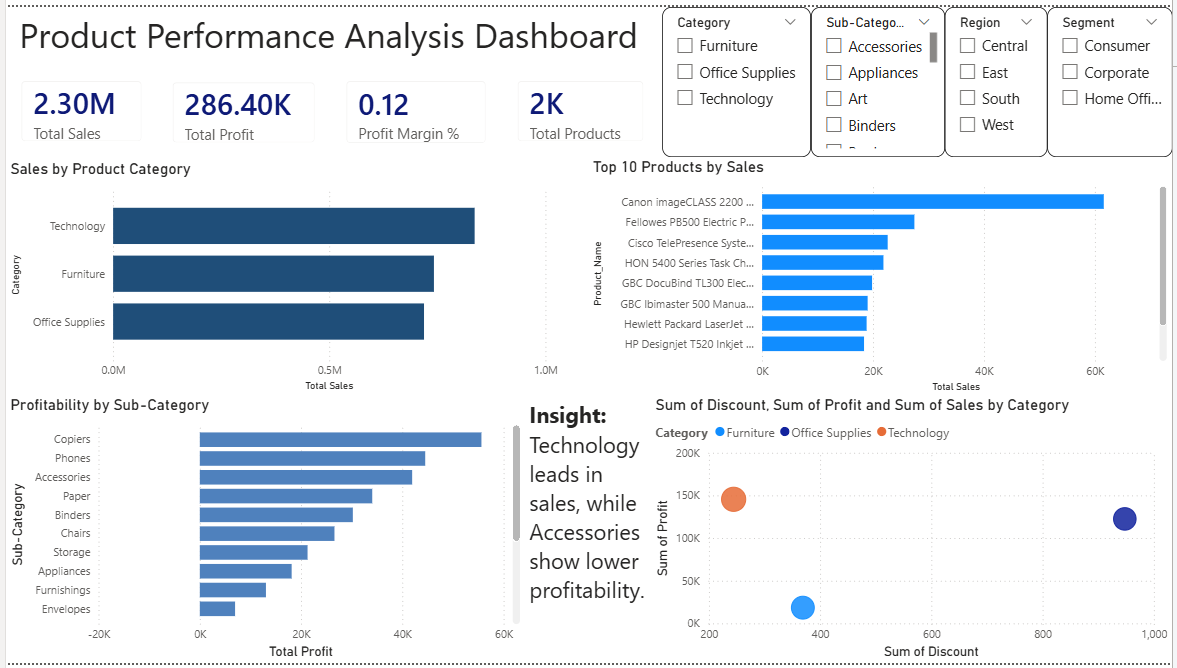

The page's visual inventory and layout, read from the dashboard file:
{"tool":"powerbi","page":{"name":"Page 2","canvas":[1280,720],"ordinal":1},"visuals":[{"type":"textbox","box":[9.6,0,710.8,64.5],"z":0},{"type":"slicer","fields":{"Values":["cleaned_superstore_data.Category"]},"box":[720.4,0,163.3,164.7],"z":1000},{"type":"slicer","fields":{"Values":["cleaned_superstore_data.Sub-Category"]},"box":[883.7,0,146.8,164.7],"z":2000},{"type":"slicer","fields":{"Values":["cleaned_superstore_data.Region"]},"box":[1030.5,0,112.5,164.7],"z":3000},{"type":"slicer","fields":{"Values":["cleaned_superstore_data.Segment"]},"box":[1143.1,0,137.2,164.7],"z":4000},{"type":"cardVisual","fields":{"Data":["cleaned_superstore_data.Total Sales"]},"box":[0,64.5,166,100.2],"z":5000},{"type":"cardVisual","fields":{"Data":["cleaned_superstore_data.Total Profit"]},"box":[166,65.9,190.7,100.2],"z":6000},{"type":"cardVisual","fields":{"Data":["cleaned_superstore_data.Profit Margin %"]},"box":[356.8,64.5,188,102.9],"z":7000},{"type":"cardVisual","fields":{"Data":["cleaned_superstore_data.Total Products"]},"box":[544.8,64.5,172.9,100.2],"z":8000},{"type":"clusteredBarChart","title":"Sales by Product Category","fields":{"Y":["cleaned_superstore_data.Total Sales"],"Category":["cleaned_superstore_data.Category"]},"box":[0,167.1,611.4,260],"z":9000},{"type":"clusteredBarChart","title":"Profitability by Sub-Category","fields":{"Category":["cleaned_superstore_data.Sub-Category"],"Y":["cleaned_superstore_data.Total Profit"]},"box":[0,426.8,569.5,293.7],"z":10000},{"type":"clusteredBarChart","title":"Top 10 Products by Sales","fields":{"Y":["cleaned_superstore_data.Total Sales"],"Category":["cleaned_superstore_data.Product_Name"]},"box":[640,164.3,640,262.9],"z":11000},{"type":"scatterChart","fields":{"X":["Sum(cleaned_superstore_data.Discount)"],"Y":["Sum(cleaned_superstore_data.Profit)"],"Size":["Sum(cleaned_superstore_data.Sales)"],"Series":["cleaned_superstore_data.Category"]},"box":[708.1,426.8,572.2,293.7],"z":12000},{"type":"textbox","box":[569.5,426.8,138.6,293.7],"z":13000}]}

Visuals, with their boxes in screenshot pixels (x1, y1, x2, y2), scaled from the page's 1280x720 canvas onto the 1177x668 screenshot:
textbox: Rect(9, 0, 662, 60)
slicer - cleaned_superstore_data.Category: Rect(662, 0, 813, 153)
slicer - cleaned_superstore_data.Sub-Category: Rect(813, 0, 948, 153)
slicer - cleaned_superstore_data.Region: Rect(948, 0, 1051, 153)
slicer - cleaned_superstore_data.Segment: Rect(1051, 0, 1176, 153)
cardVisual - cleaned_superstore_data.Total Sales: Rect(0, 60, 153, 153)
cardVisual - cleaned_superstore_data.Total Profit: Rect(153, 61, 328, 154)
cardVisual - cleaned_superstore_data.Profit Margin %: Rect(328, 60, 501, 155)
cardVisual - cleaned_superstore_data.Total Products: Rect(501, 60, 660, 153)
"Sales by Product Category" clusteredBarChart: Rect(0, 155, 562, 396)
"Profitability by Sub-Category" clusteredBarChart: Rect(0, 396, 524, 667)
"Top 10 Products by Sales" clusteredBarChart: Rect(588, 152, 1176, 396)
scatterChart - Sum(cleaned_superstore_data.Discount) x Sum(cleaned_superstore_data.Profit): Rect(651, 396, 1176, 667)
textbox: Rect(524, 396, 651, 667)
